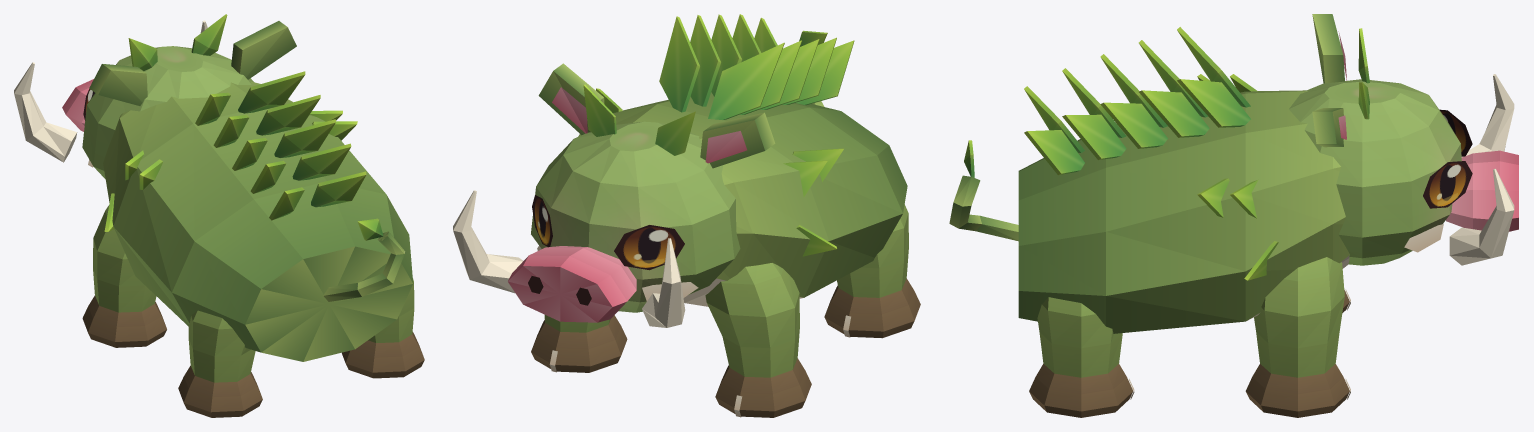
The model's file is BrambleBoar_S6_FacetedReview.obj.
The picture shows the model from 3 angles, left to right: view 1: azimuth 30°, elevation 25°; view 2: azimuth 150°, elevation 25°; view 3: azimuth 270°, elevation 25°; orthographic projection. The views are drawn at different scales.
Parts seen in each view (by area): view 1: Body, Head, LeftBackLeg, LeftFrontLeg, RightBackLeg, LeftTusk, RightEar, LeftEar, Tail, RightBrambleRidge0, RightBrambleRidge1, RightBrambleRidge2 (+12 smaller); view 2: Body, Head, LeftFrontLeg, Snout, LeftBackLeg, RightFrontLeg, LeftBrambleRidge0, RightTusk, RightBrambleRidge0, LeftEye, LeftTusk, LeftEar (+17 smaller); view 3: Body, Head, RightFrontLeg, RightBackLeg, Snout, RightTusk, RightBrambleRidge0, Tail, RightBrambleRidge1, RightBrambleRidge2, RightBrambleRidge3, RightEye (+12 smaller).
Boxes of the visible parts, x1,y1,x2,y2 form: Body: (103,81,413,361); Head: (82,46,253,178); LeftBackLeg: (178,310,262,417); LeftFrontLeg: (82,205,166,347); RightBackLeg: (342,278,424,378); LeftTusk: (14,62,77,162); RightEar: (231,21,296,79); LeftEar: (89,64,147,105); Tail: (323,231,405,301); RightBrambleRidge0: (238,71,305,113); RightBrambleRidge1: (256,95,320,135); RightBrambleRidge2: (274,119,335,157); Body: (578,92,907,306); Head: (531,121,740,312); LeftFrontLeg: (705,263,811,417); Snout: (508,246,636,322); LeftBackLeg: (824,204,920,338); RightFrontLeg: (531,315,627,372); LeftBrambleRidge0: (708,42,784,119); RightTusk: (453,190,522,293); RightBrambleRidge0: (659,16,699,112); LeftEye: (614,225,684,270); LeftTusk: (642,238,685,327); LeftEar: (700,112,775,168); Body: (1018,90,1349,333); Head: (1289,79,1461,265); RightFrontLeg: (1245,257,1349,417); RightBackLeg: (1029,297,1133,417); Snout: (1446,150,1518,231); RightTusk: (1449,168,1514,265); RightBrambleRidge0: (1177,79,1250,127); Tail: (949,175,1018,241); RightBrambleRidge1: (1139,90,1209,137); RightBrambleRidge2: (1100,102,1167,148); RightBrambleRidge3: (1062,114,1126,160); RightEye: (1423,161,1472,208).
Bounding box in the file's own units: 9.69 × 10 × 17.13.
Materials: 1 (1 with a texture image).
